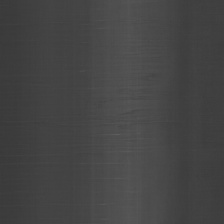waist_folding: (103, 38, 153, 174)
